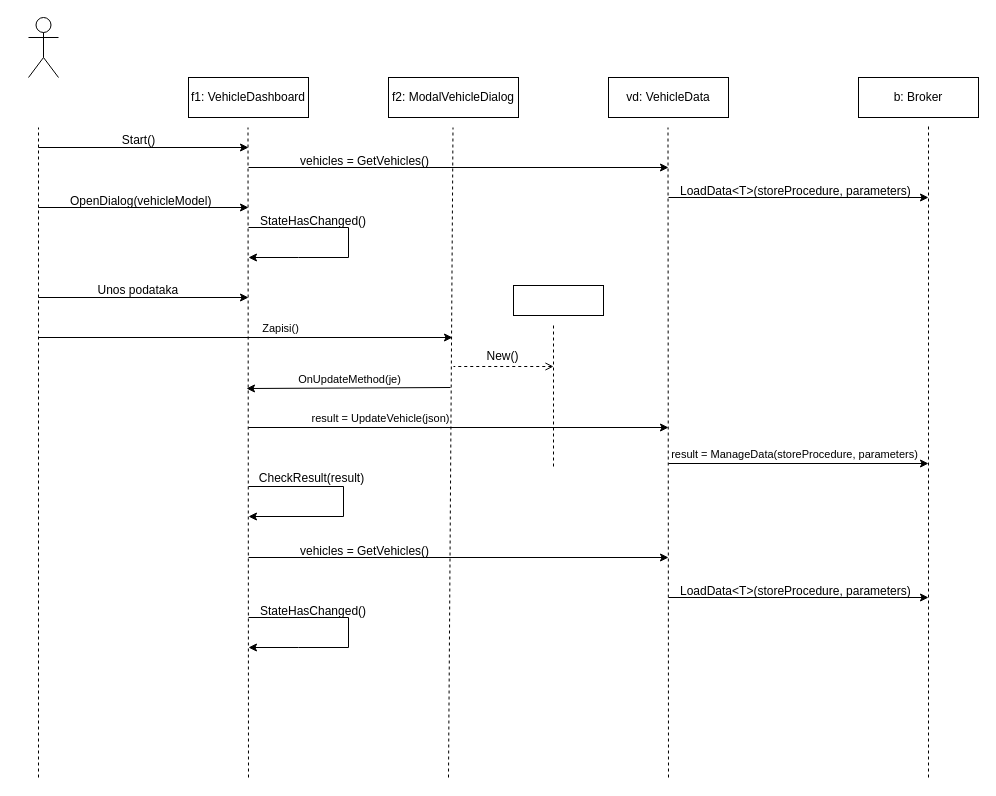
Some shapes in this 996 by 796 pixel diagram are drawn without their labels. Here are the shapes that lost their labels. From the top down, the centre of each, then its label:
At pixel 43 47: "Actor: Zaposleni".
At pixel 558 300: "je: JsonElement".
